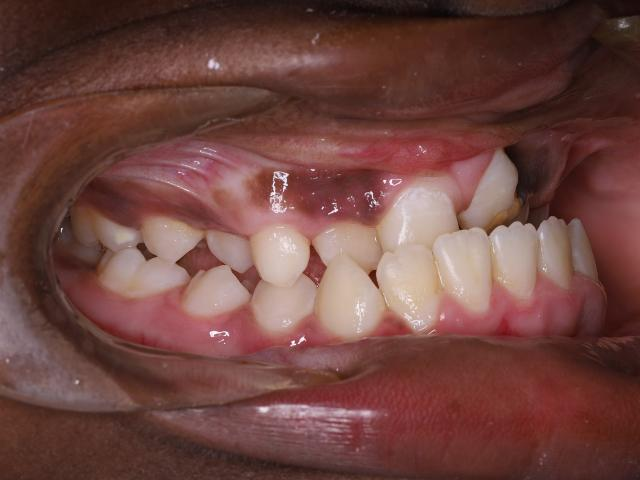canine class III 1/2: (250, 220, 386, 344)
molar class III 3/4: (61, 194, 189, 310)
